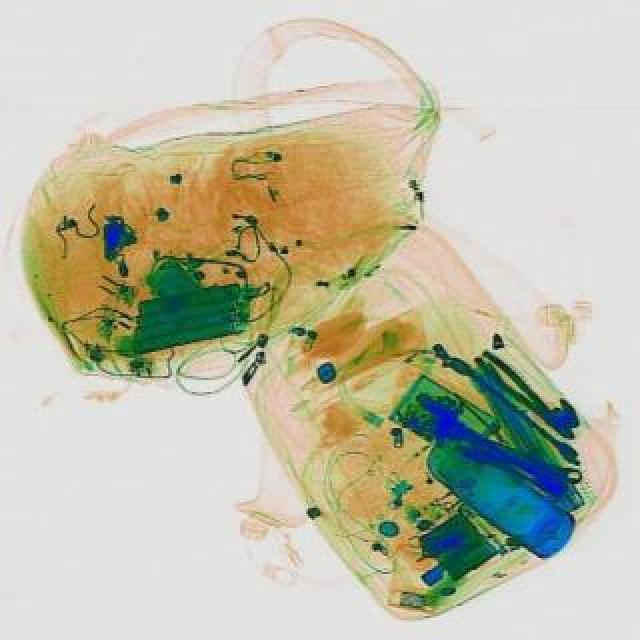wrench: (468, 344, 580, 446)
